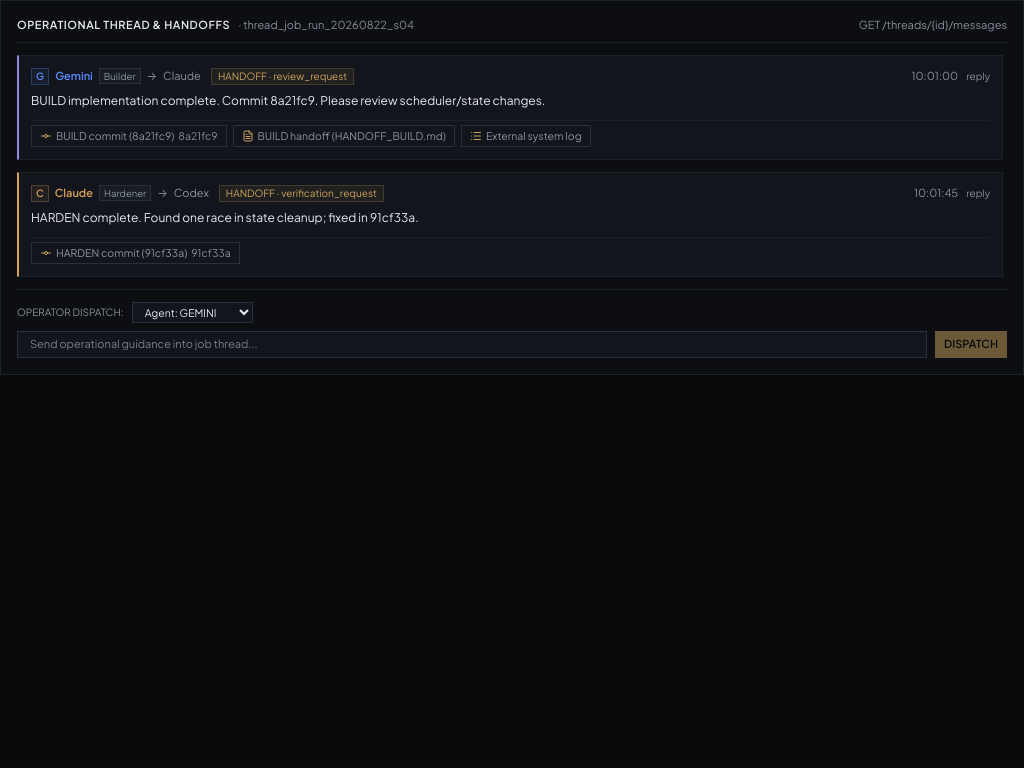
Test: Phase 5.1 Operational Messaging & Truthful Artifact Trust UI › renders unverified artifact without false trust claims
Expected: the text "External system log" is shown, [486,128,582,144]
Step 1. Click the button "External system log" → (526, 136), box [461,125,591,147]
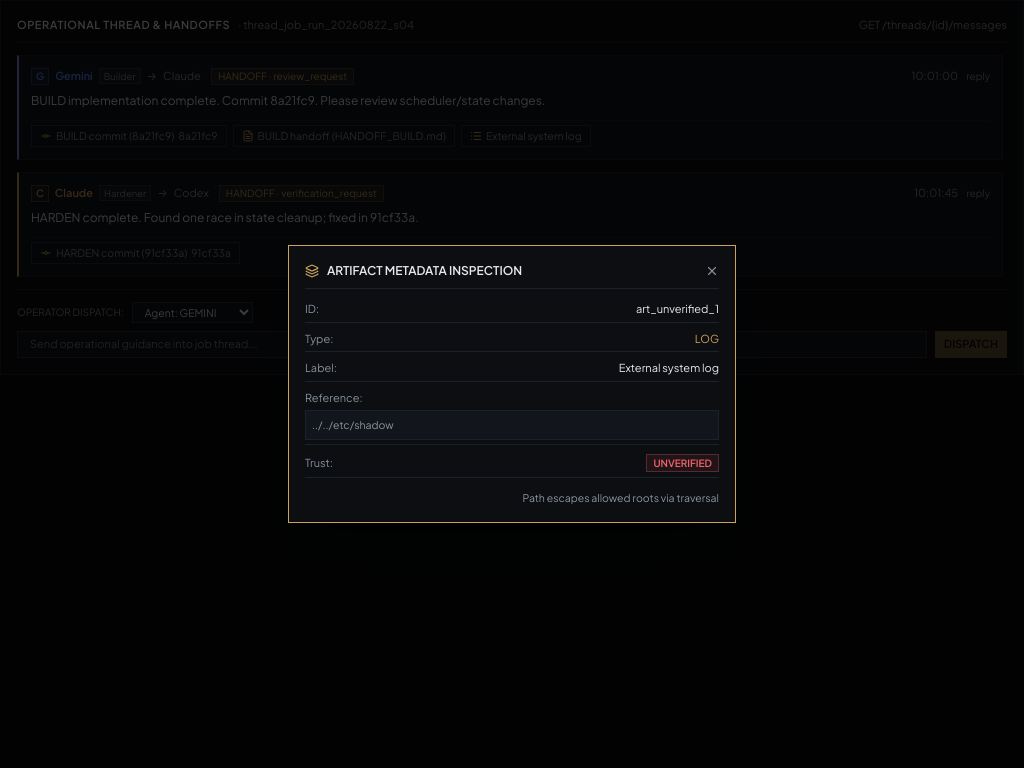
Result: the text "ARTIFACT METADATA INSPECTION" is shown at [327,262,522,280]
Result: the text "UNVERIFIED" is shown at [646,454,719,472]
Result: the text "Path escapes allowed roots via traversal" is shown at [523,491,719,504]
